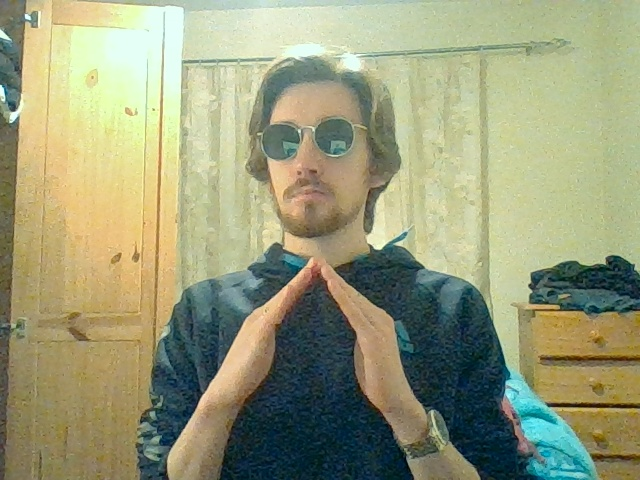home: (244, 256, 396, 348)
